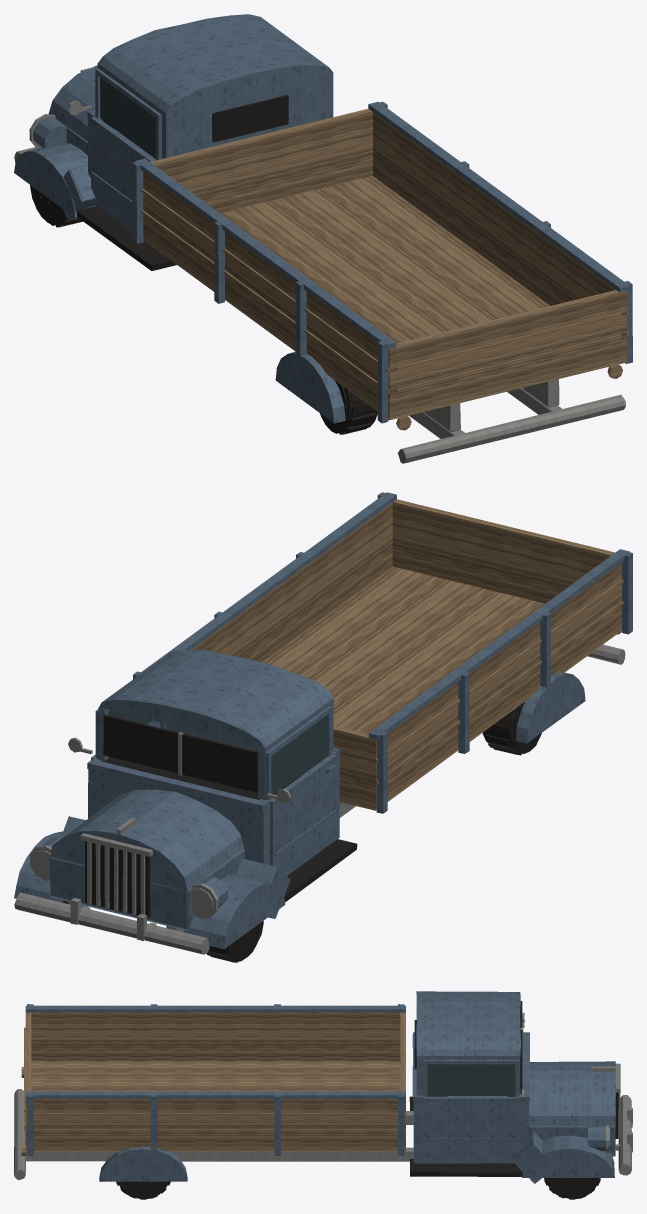
File: old_bessie.glb
The picture shows the model from 3 angles, top to bottom: view 1: azimuth 30°, elevation 25°; view 2: azimuth 150°, elevation 25°; view 3: azimuth 270°, elevation 25°; orthographic projection. The views are drawn at different scales.
Visible parts, largest first — view 1: OldBessie, Tailgate, Door_L, Glass_L, Wheel_L2, Wheel_L1; view 2: OldBessie, Tailgate, Door_L, Glass_L, Wheel_L2, Wheel_L1; view 3: OldBessie, Door_R, Glass_R, Wheel_R1, Wheel_R2, Tailgate.
Part boxes in pixels (<box>): OldBessie: <box>14,14,632,463</box>; Tailgate: <box>396,290,620,411</box>; Door_L: <box>91,68,161,224</box>; Glass_L: <box>100,77,155,158</box>; Wheel_L2: <box>320,381,377,434</box>; Wheel_L1: <box>30,185,82,227</box>; OldBessie: <box>14,492,632,954</box>; Tailgate: <box>392,499,614,603</box>; Door_L: <box>265,706,336,871</box>; Glass_L: <box>265,715,327,794</box>; Wheel_L2: <box>482,702,541,755</box>; Wheel_L1: <box>206,921,263,962</box>; OldBessie: <box>14,991,632,1183</box>; Door_R: <box>423,1059,519,1156</box>; Glass_R: <box>427,1064,515,1095</box>; Wheel_R1: <box>544,1178,600,1199</box>; Wheel_R2: <box>116,1181,170,1199</box>; Tailgate: <box>25,1012,31,1091</box>.
Bounding box in the file's own units: 3.2 × 2.46 × 9.02.
5 materials, 3 textured.
